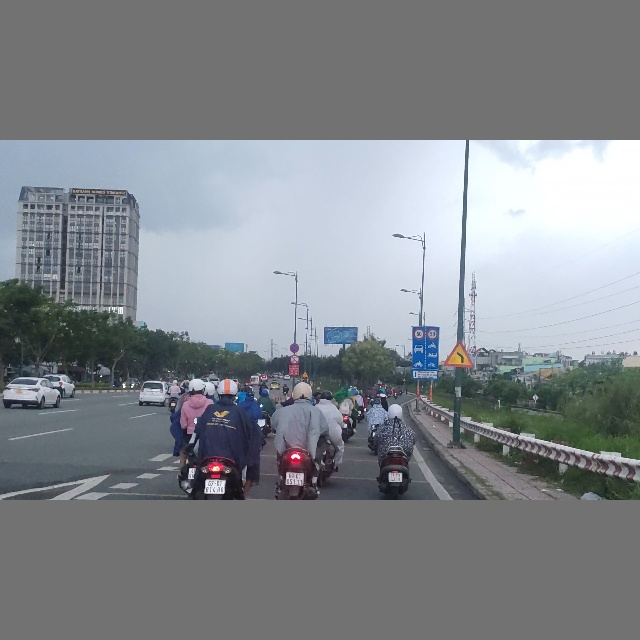P.111: (289, 354, 300, 364)
P.127*50: (412, 328, 425, 340), (426, 328, 439, 340)
P.130: (288, 343, 300, 354)
W.201a: (442, 338, 475, 368), (302, 370, 308, 377)
